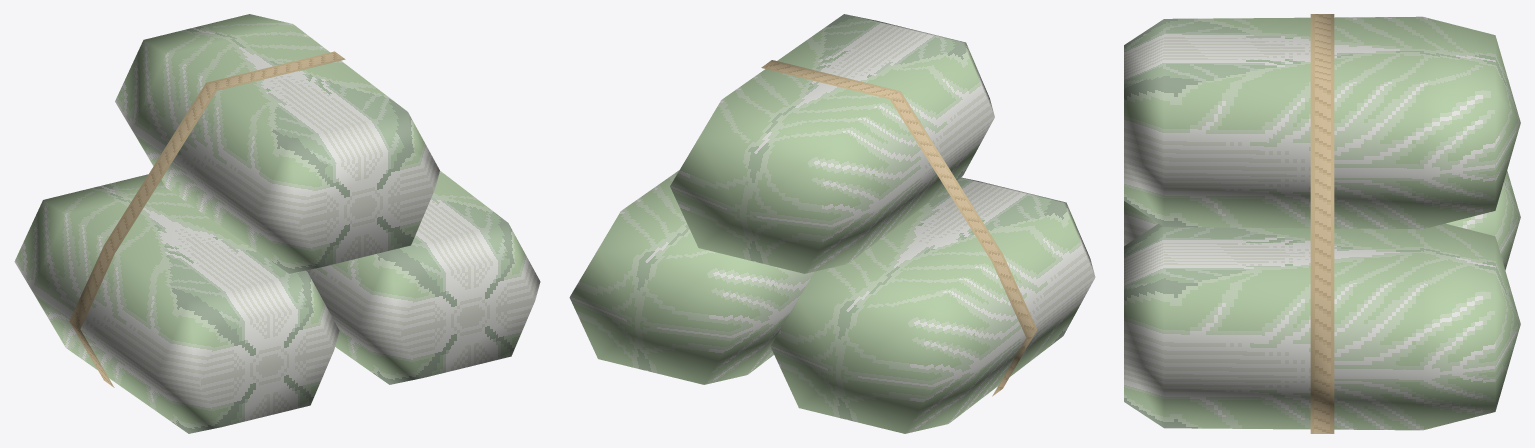
File: 00ba_Chinese_Cabbages.glb
The picture shows the model from 3 angles, left to right: view 1: azimuth 30°, elevation 25°; view 2: azimuth 150°, elevation 25°; view 3: azimuth 270°, elevation 25°; orthographic projection. The views are drawn at different scales.
Visible parts, largest first — view 1: part_0; view 2: part_0; view 3: part_0.
Boxes of the visible parts, x1,y1,x2,y2 form: part_0: (14,14,540,433); part_0: (569,14,1095,433); part_0: (1124,14,1520,433).
Size of the model in its own units: 0.4745 by 0.3075 by 0.3721.
Materials: 1 (1 with a texture image).
